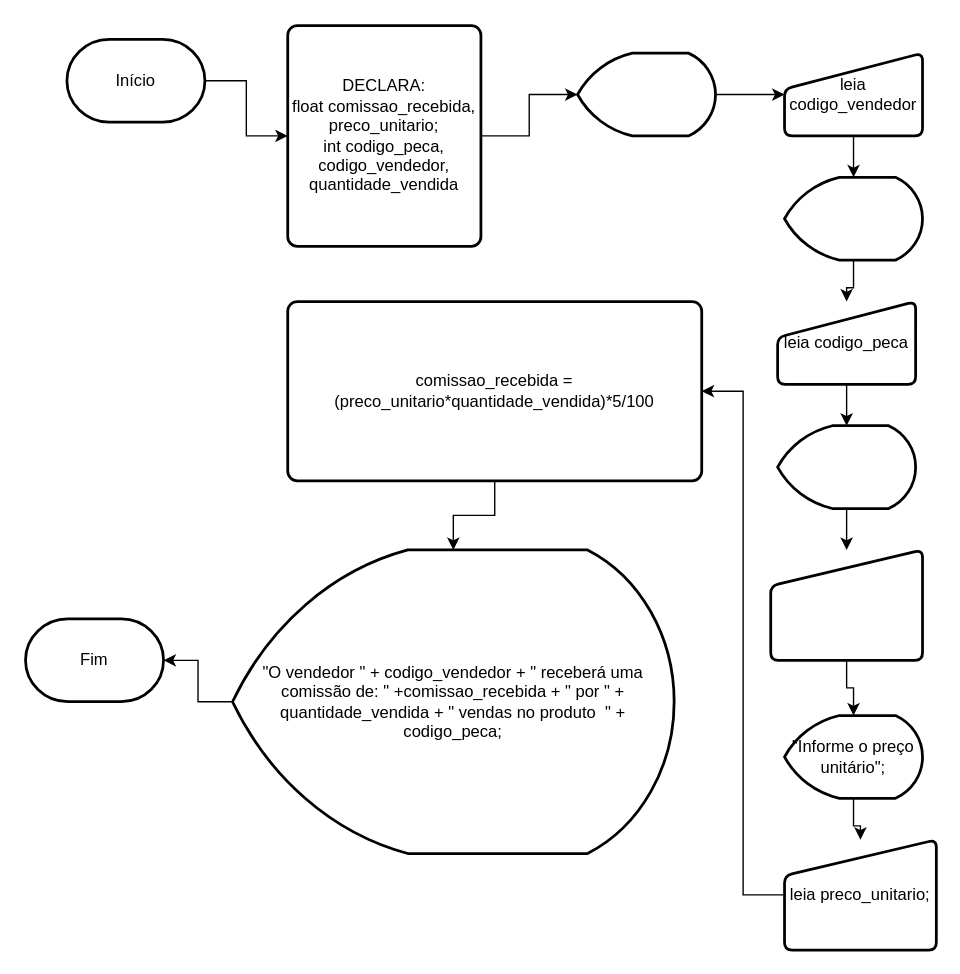
Image size: 960x974. Some labels were removed from this diagram. Each missing label, with the centre of its shape:
"Informe a quantidade vendida";: point (846, 466)
"Informe o código da peca";: point (852, 218)
"Informe o código de vendedor";: point (645, 94)
leia quantidade_vendida: point (846, 604)
